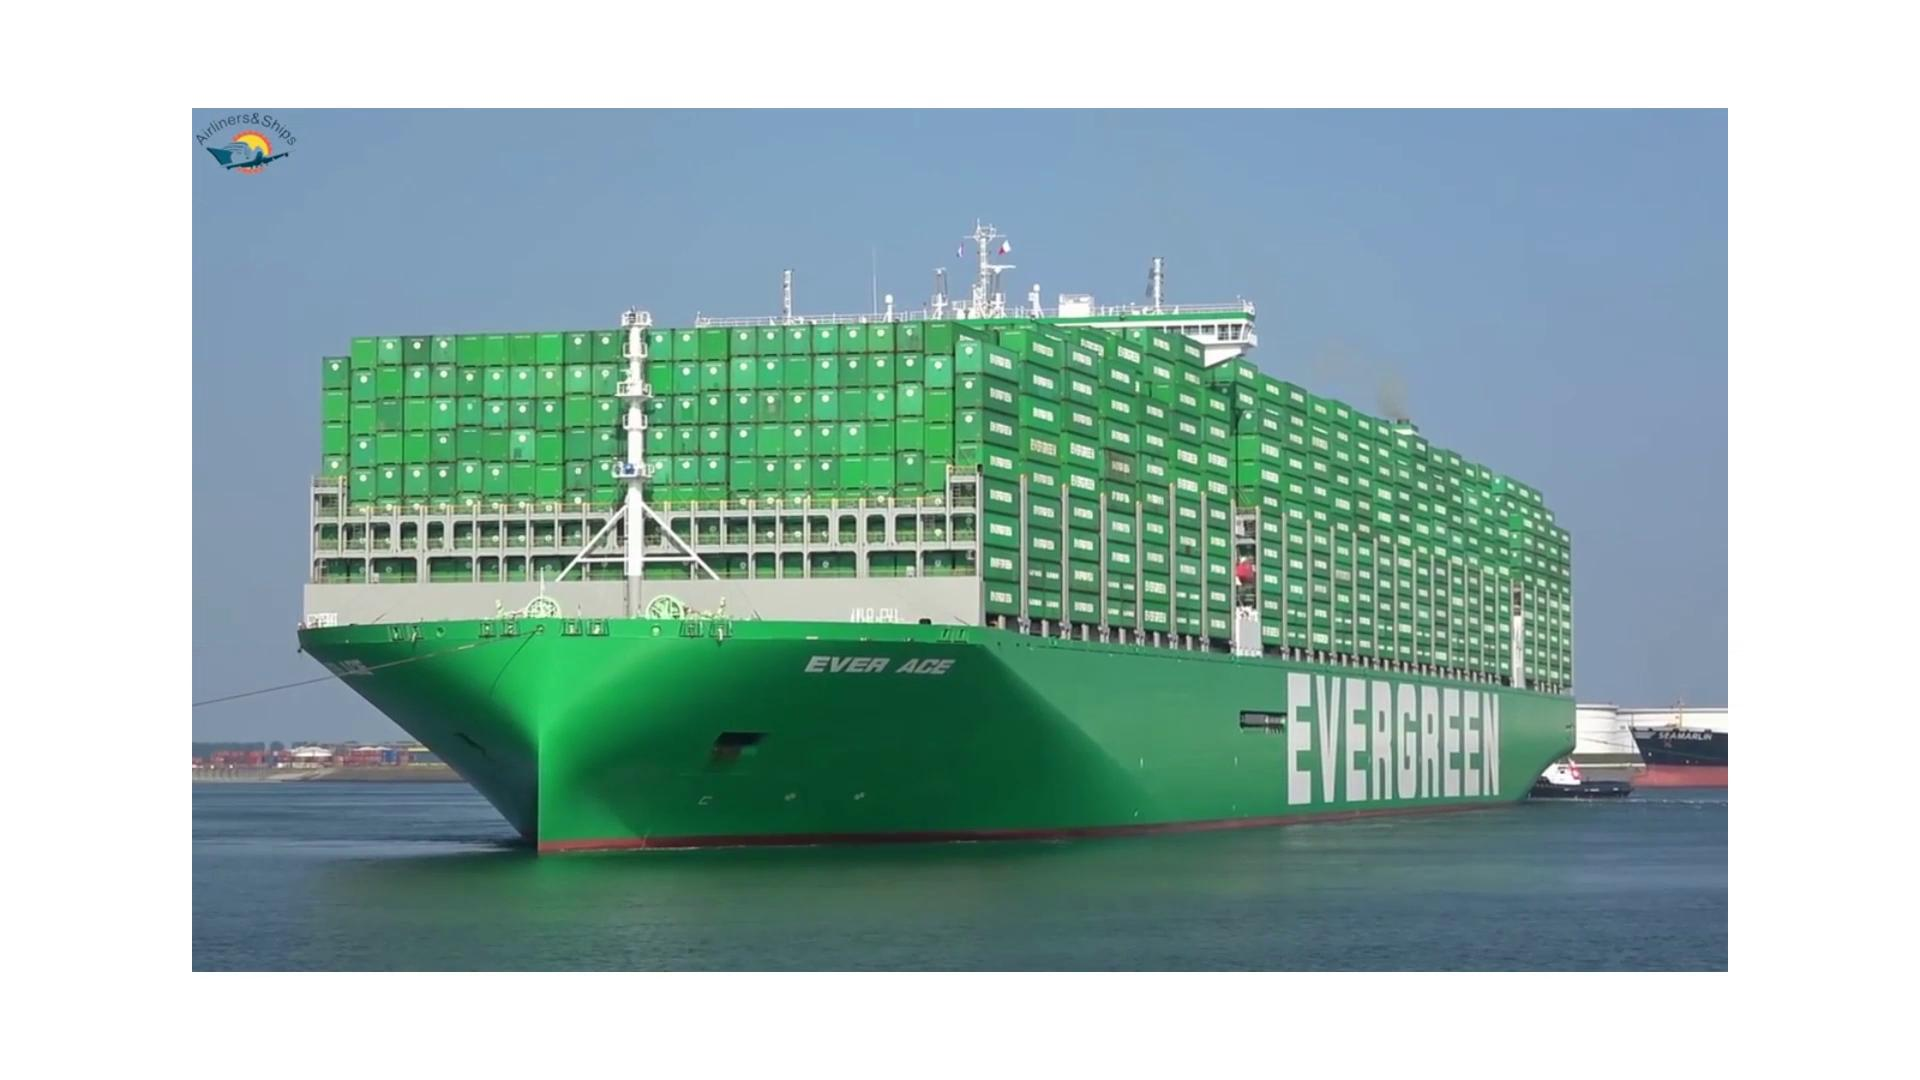OCR: (1263, 661, 1523, 818), (798, 637, 967, 692)
